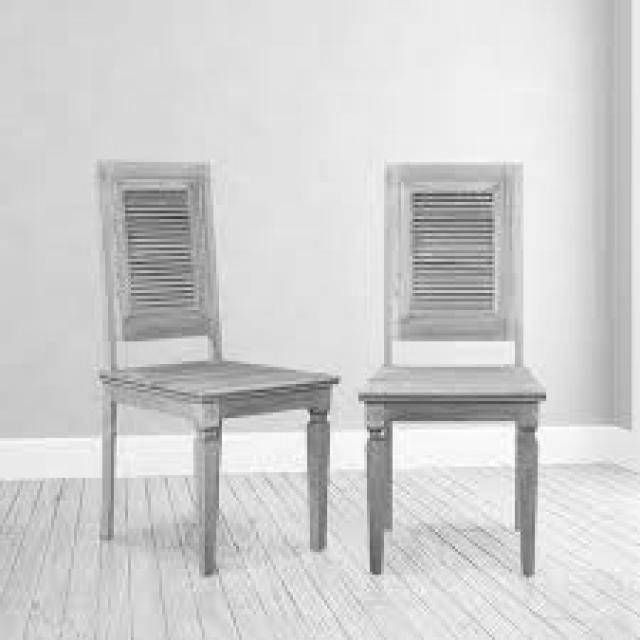chair: (92, 154, 340, 576), (358, 159, 548, 581)
